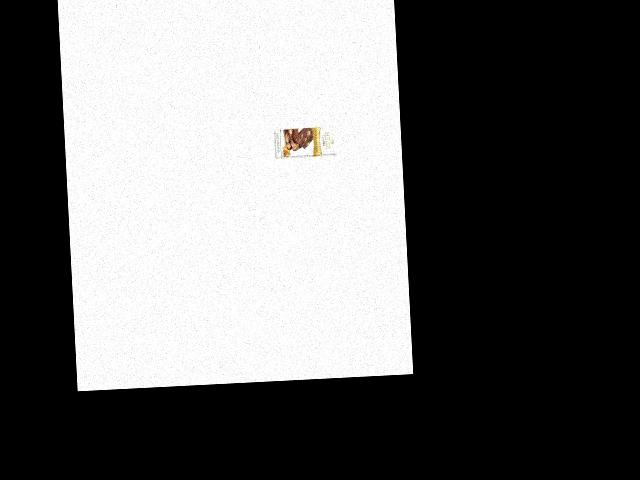chocolate: (274, 119, 341, 163)
